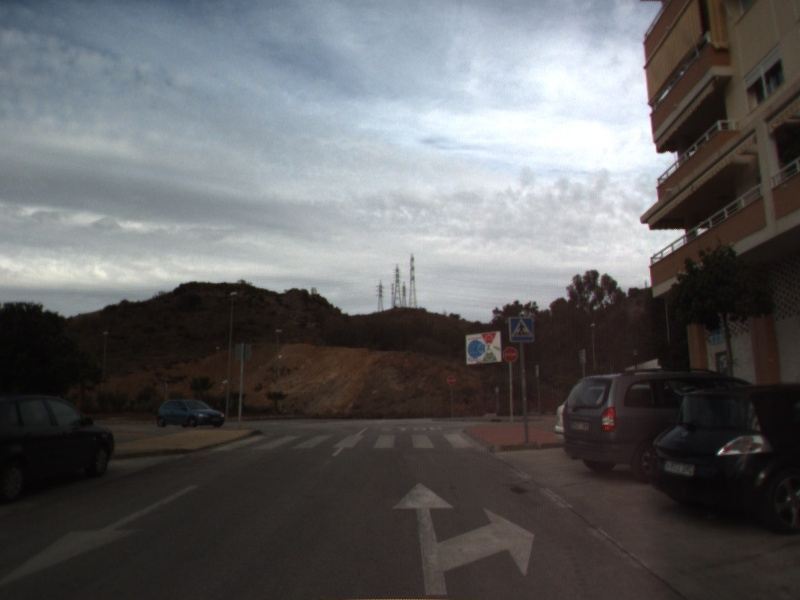STRAIGHT_RIGHT: (390, 479, 537, 597)
